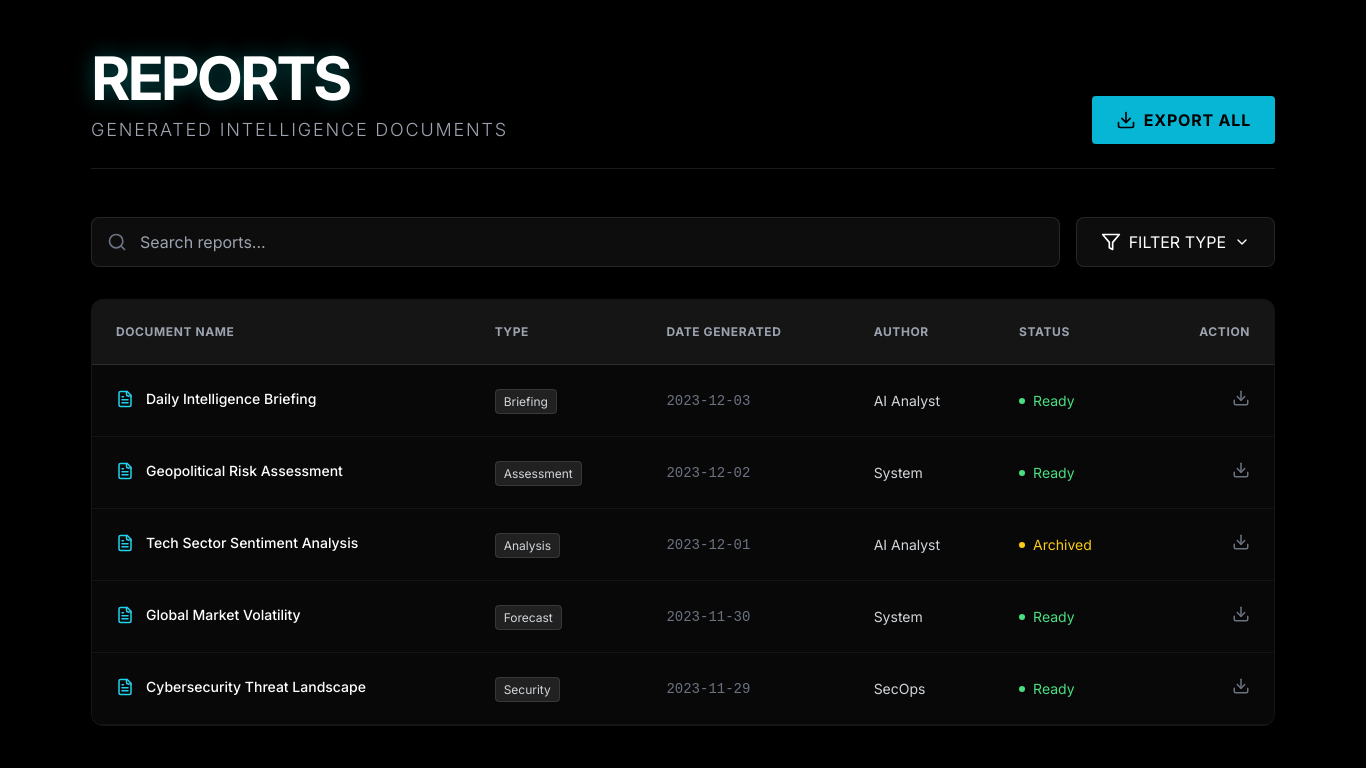
Reports Component › filters reports based on search input
// Search for "Cybersecurity"
Type "Cybersecurity" into the field with placeholder "Search reports...".
click(575, 242); type("Cybersecurity")  # box top-left (91, 217), bottom-right (1060, 267)
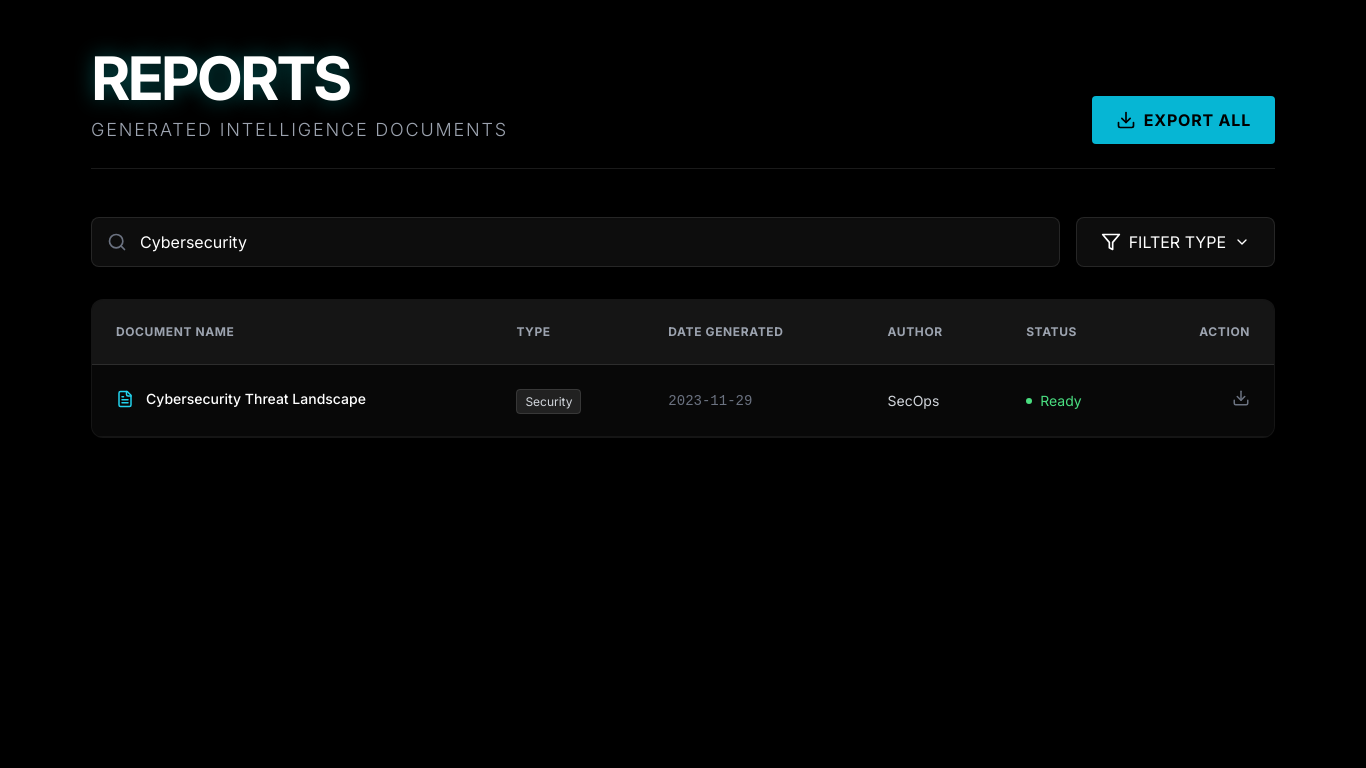
Expected: the text "Cybersecurity Threat Landscape" is shown, top-left (92, 365), bottom-right (492, 433)
Now the text "Daily Intelligence Briefing" is gone
